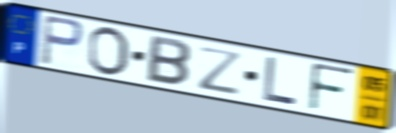B: (144, 33, 193, 88)
F: (306, 60, 356, 115)
L: (261, 55, 299, 109)
O: (85, 25, 131, 78)
P: (38, 13, 86, 68)
Z: (197, 44, 246, 97)
